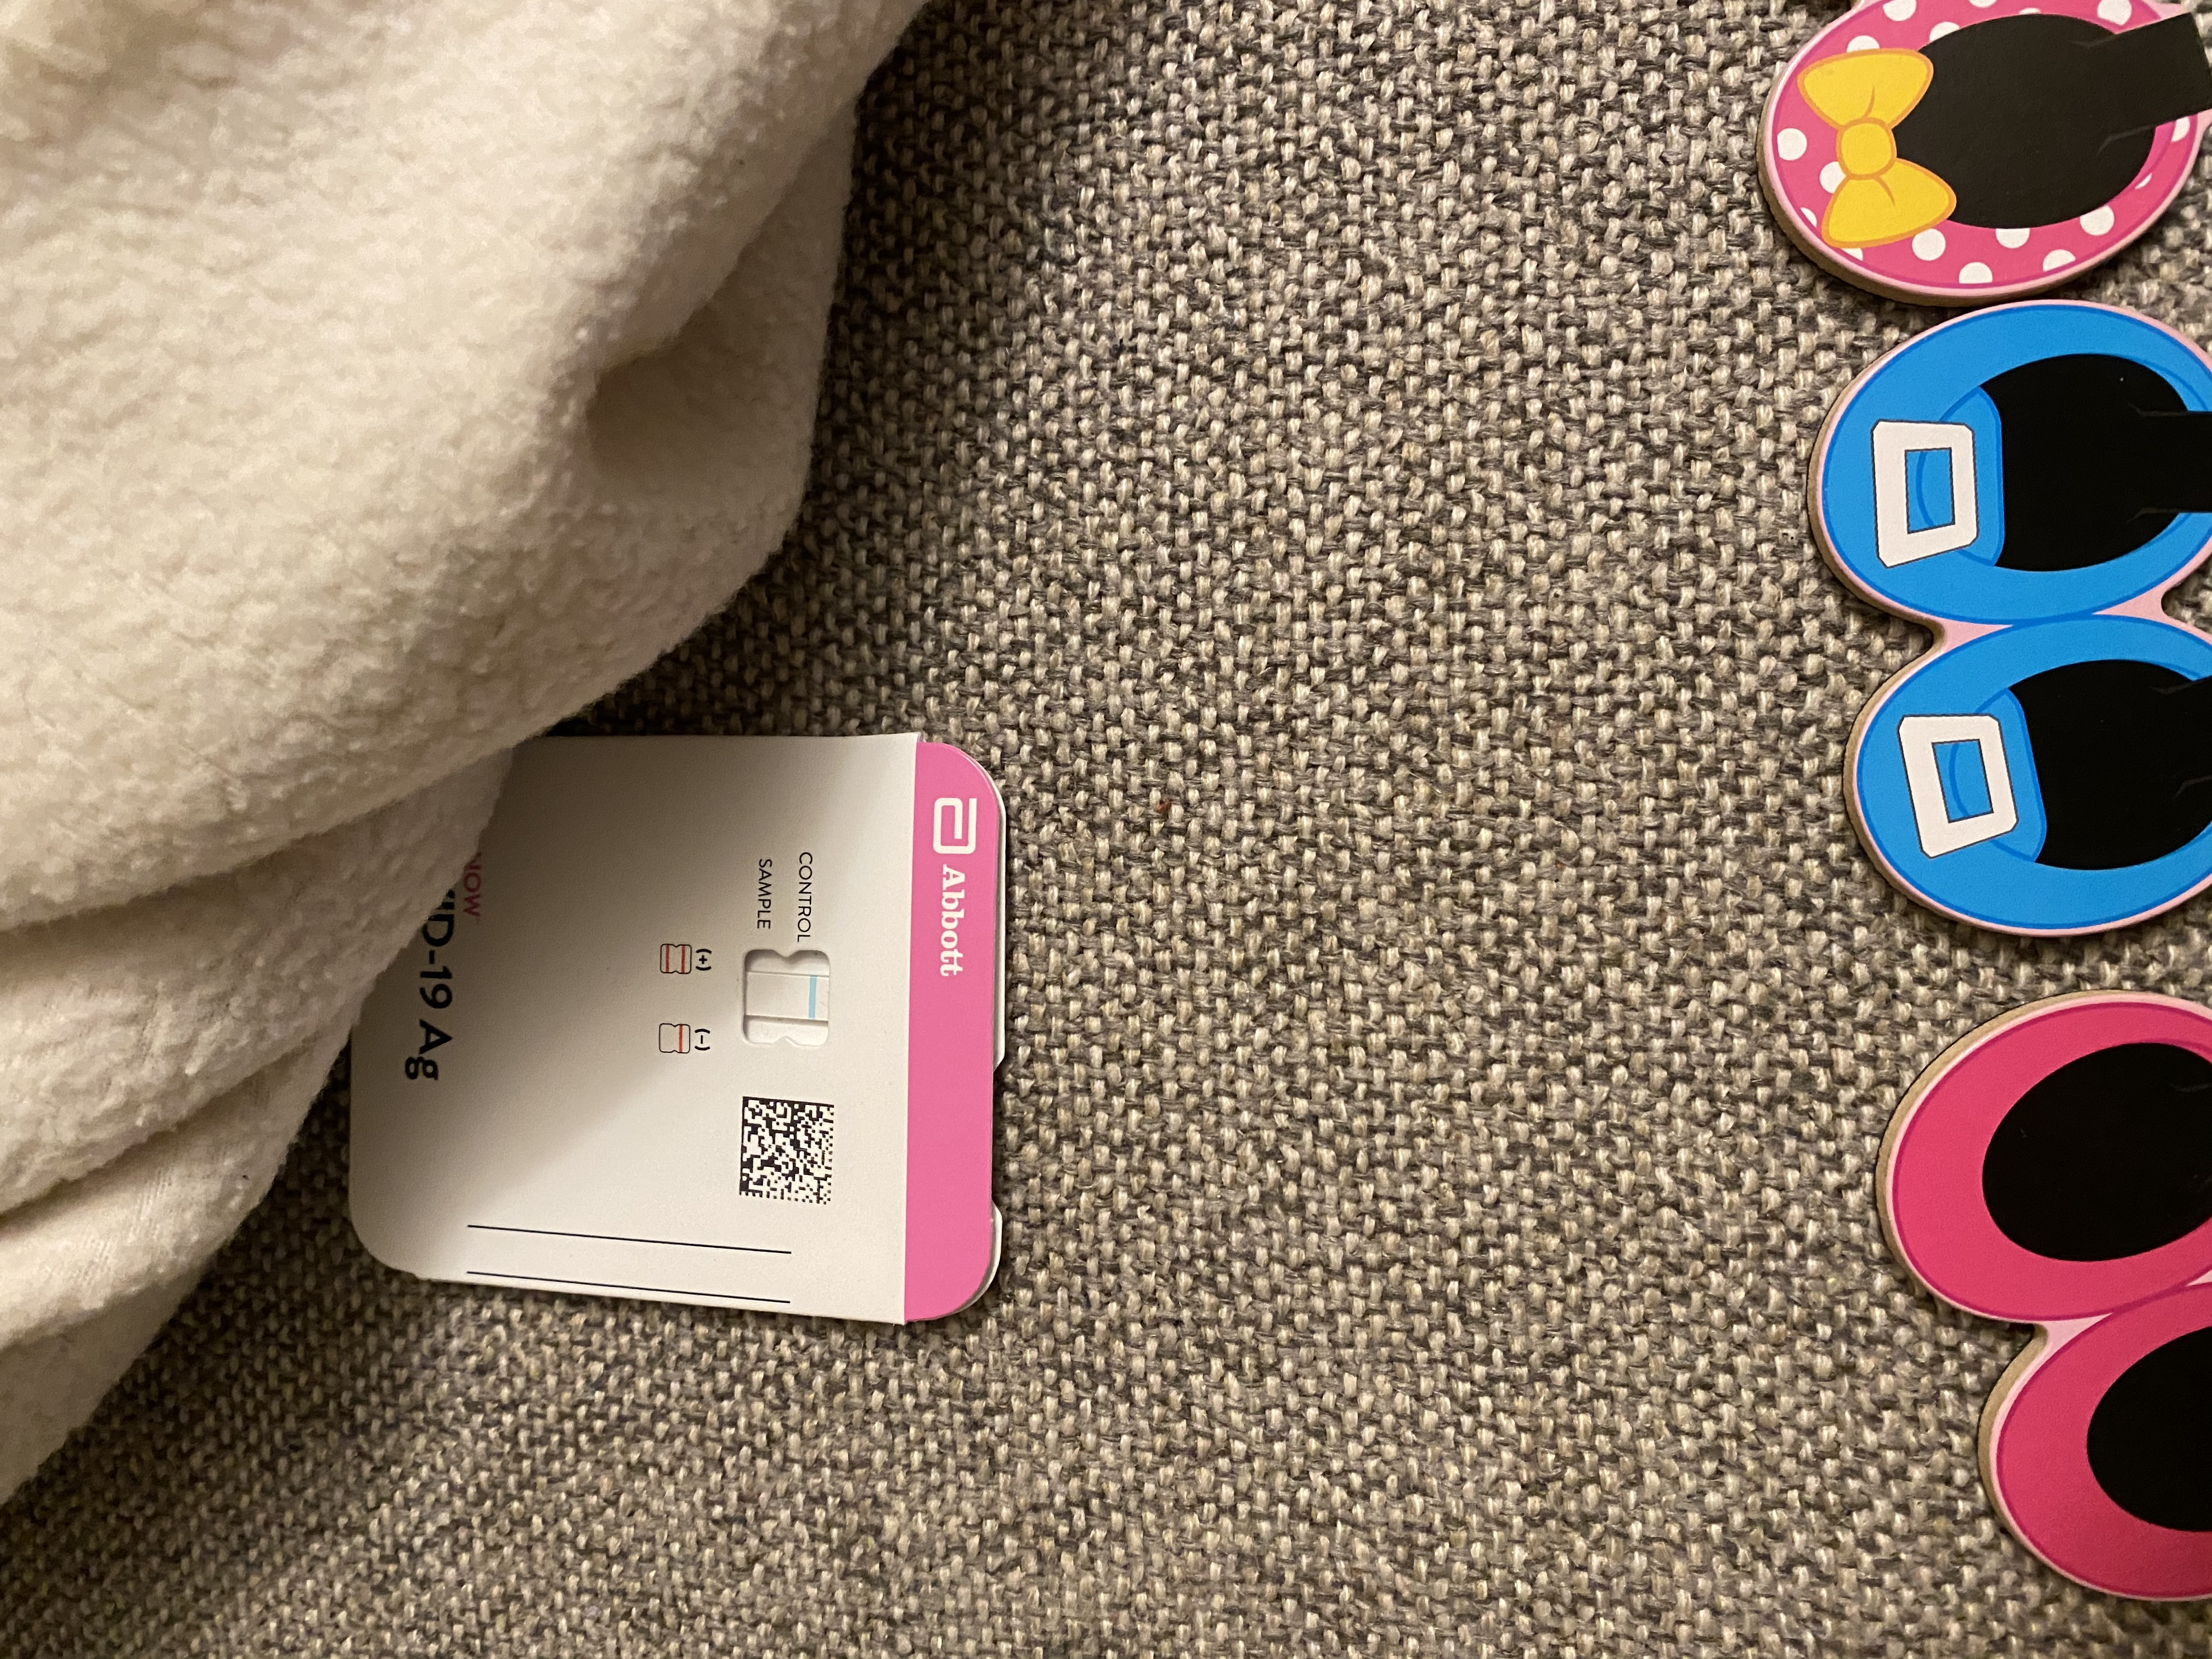binax: (329, 720, 1017, 1338)
